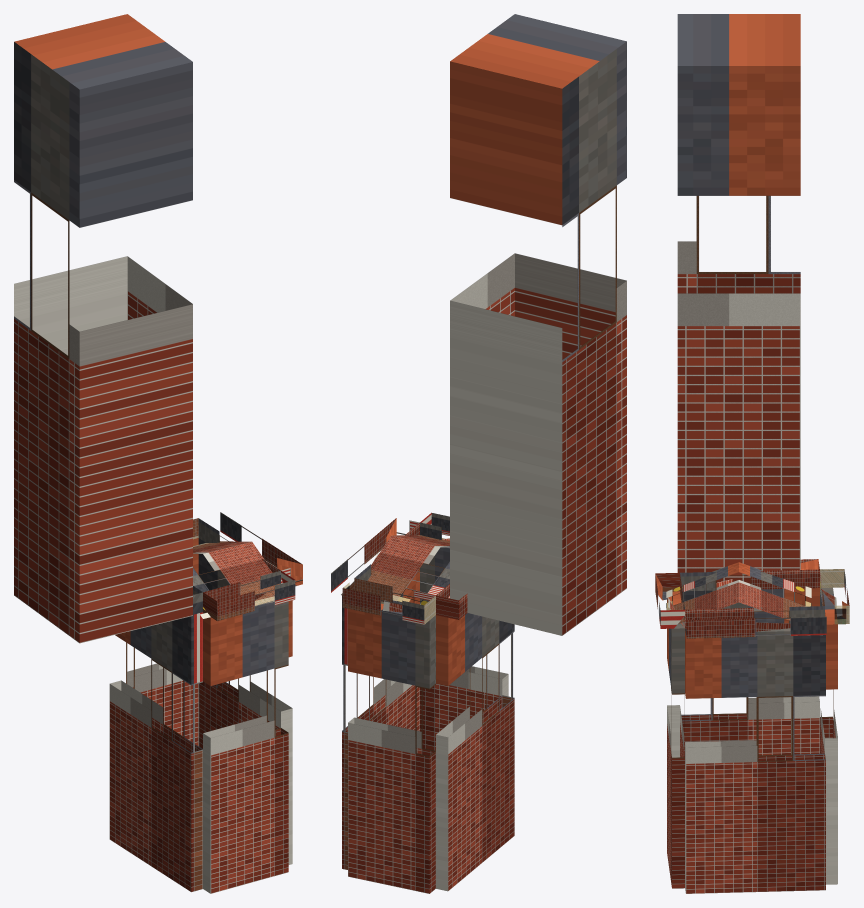
The picture shows the model from 3 angles, left to right: view 1: azimuth 30°, elevation 25°; view 2: azimuth 150°, elevation 25°; view 3: azimuth 270°, elevation 25°; orthographic projection. The views are drawn at different scales.
Visible parts, largest first — view 1: 1106964392__chimney_0_xb, 1106964392__wall_0_xb, 1106964392__wall_1_xb, 1106964392__wall_3_xb, 1106964392__wall_2_xb, 1106964392_roof_-1_xb, 1106964392__cornice_0, 1106964392__cornice_3; view 2: 1106964392__chimney_0_xb, 1106964392__wall_2_xb, 1106964392__wall_1_xb, 1106964392__wall_0_xb, 1106964392__wall_3_xb, 1106964392_roof_1_xb, 1106964392__cornice_2, 1106964392__cornice_3, 1106964392__cornice_1, 1106964392__cornice_0; view 3: 1106964392__chimney_0_xb, 1106964392__wall_3_xb, 1106964392__wall_1_xb, 1106964392__wall_0_xb, 1106964392__cornice_3, 1106964392__wall_2_xb, 1106964392_roof_1_xb, 1106964392_roof_-1_xb, 1106964392__cornice_1, 1106964392__cornice_0, 1106964392__cornice_2.
Boxes of the visible parts, bbox=[...] form: 1106964392__chimney_0_xb: bbox=[14, 14, 192, 643]; 1106964392__wall_0_xb: bbox=[203, 601, 288, 893]; 1106964392__wall_1_xb: bbox=[109, 612, 202, 892]; 1106964392__wall_3_xb: bbox=[198, 538, 292, 864]; 1106964392__wall_2_xb: bbox=[126, 538, 198, 746]; 1106964392_roof_-1_xb: bbox=[193, 542, 280, 618]; 1106964392__cornice_0: bbox=[203, 570, 295, 621]; 1106964392__cornice_3: bbox=[198, 512, 302, 586]; 1106964392__chimney_0_xb: bbox=[450, 14, 626, 635]; 1106964392__wall_2_xb: bbox=[348, 603, 435, 893]; 1106964392__wall_1_xb: bbox=[436, 613, 514, 891]; 1106964392__wall_0_xb: bbox=[420, 546, 508, 750]; 1106964392__wall_3_xb: bbox=[342, 569, 419, 869]; 1106964392_roof_1_xb: bbox=[367, 535, 449, 604]; 1106964392__cornice_2: bbox=[342, 578, 435, 624]; 1106964392__cornice_3: bbox=[331, 518, 419, 595]; 1106964392__cornice_1: bbox=[436, 584, 467, 619]; 1106964392__cornice_0: bbox=[420, 512, 449, 540]; 1106964392__chimney_0_xb: bbox=[677, 14, 800, 583]; 1106964392__wall_3_xb: bbox=[685, 628, 825, 893]; 1106964392__wall_1_xb: bbox=[681, 588, 819, 755]; 1106964392__wall_0_xb: bbox=[667, 591, 684, 888]; 1106964392__cornice_3: bbox=[685, 606, 826, 638]; 1106964392__wall_2_xb: bbox=[820, 587, 837, 884]; 1106964392_roof_1_xb: bbox=[739, 562, 811, 620]; 1106964392_roof_-1_xb: bbox=[666, 562, 738, 623]; 1106964392__cornice_1: bbox=[679, 559, 819, 591]; 1106964392__cornice_0: bbox=[655, 572, 684, 628]; 1106964392__cornice_2: bbox=[820, 569, 849, 624].
Size of the model in its own units: 0.3016 by 1.05 by 0.2368.
Materials: 1 (1 with a texture image).
